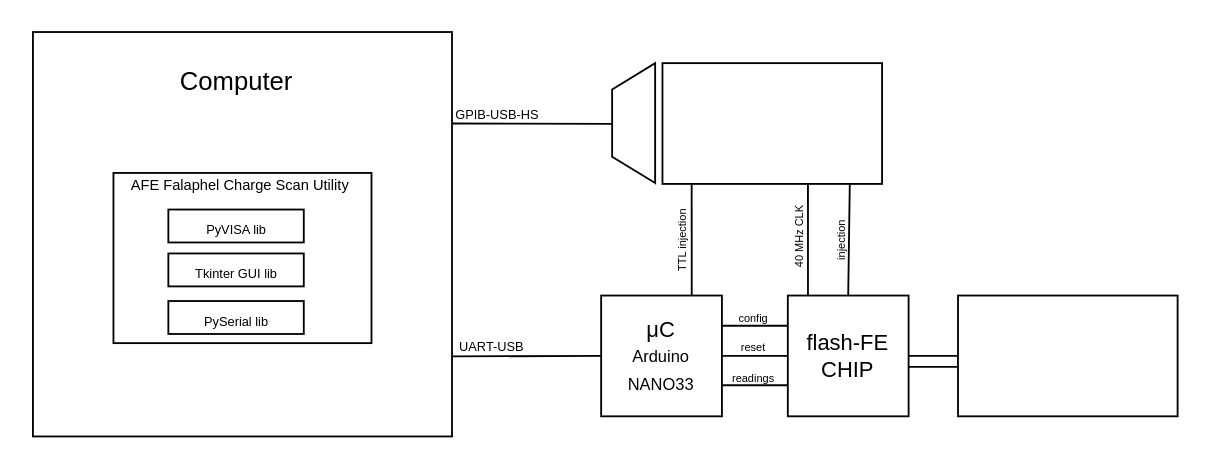
Image size: 1210x468. Some labels were removed from this diagram. Here are the shapes that lost their labels. From the top down, the box of each, then its label:
(610, 61, 655, 183): GPIB
(661, 61, 882, 184): Data Timing Generator Tektronix DTG5334
(956, 294, 1178, 416): POWER SUPPLY
